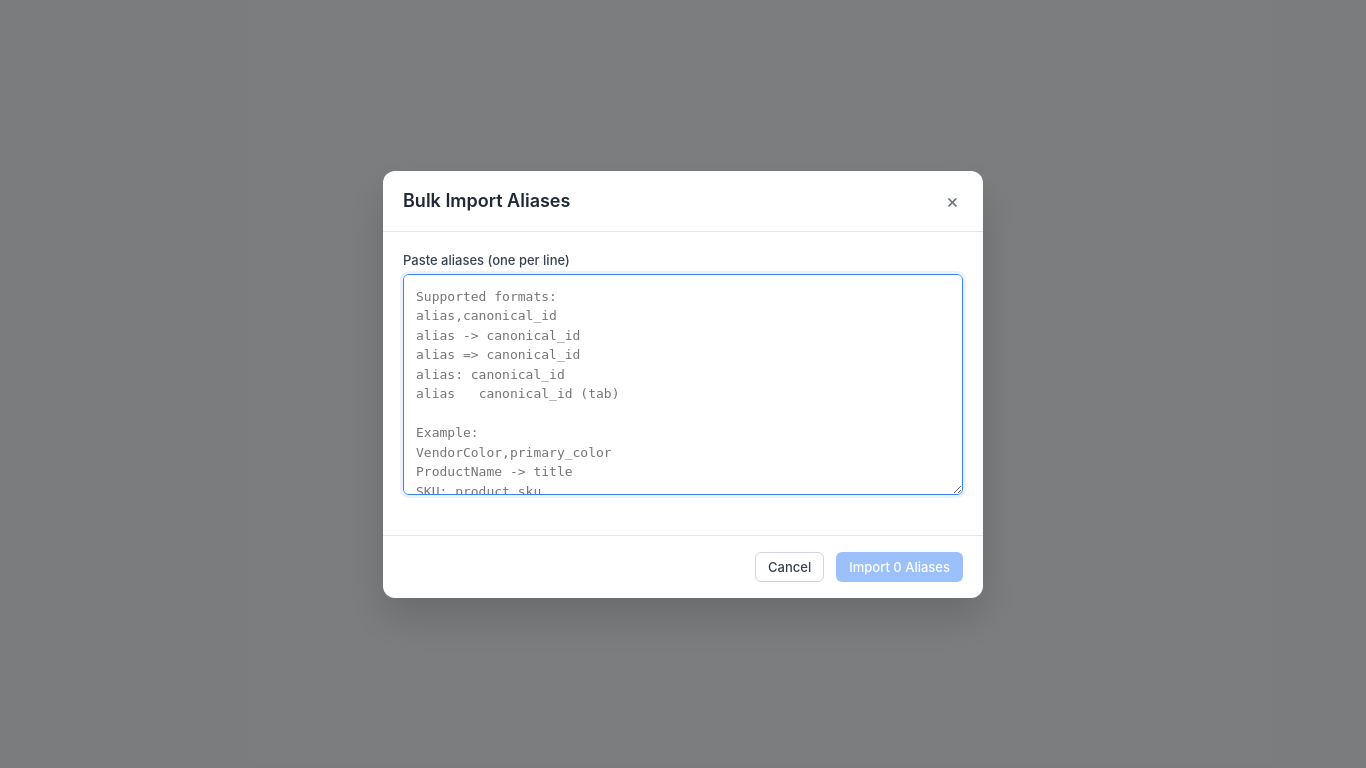
Test: BulkAliasImportModal › should detect invalid canonical IDs
Type "NewAlias,nonexistent_attr" into the text box with placeholder "Supported formats" at [683, 384], box [403, 274, 963, 494]
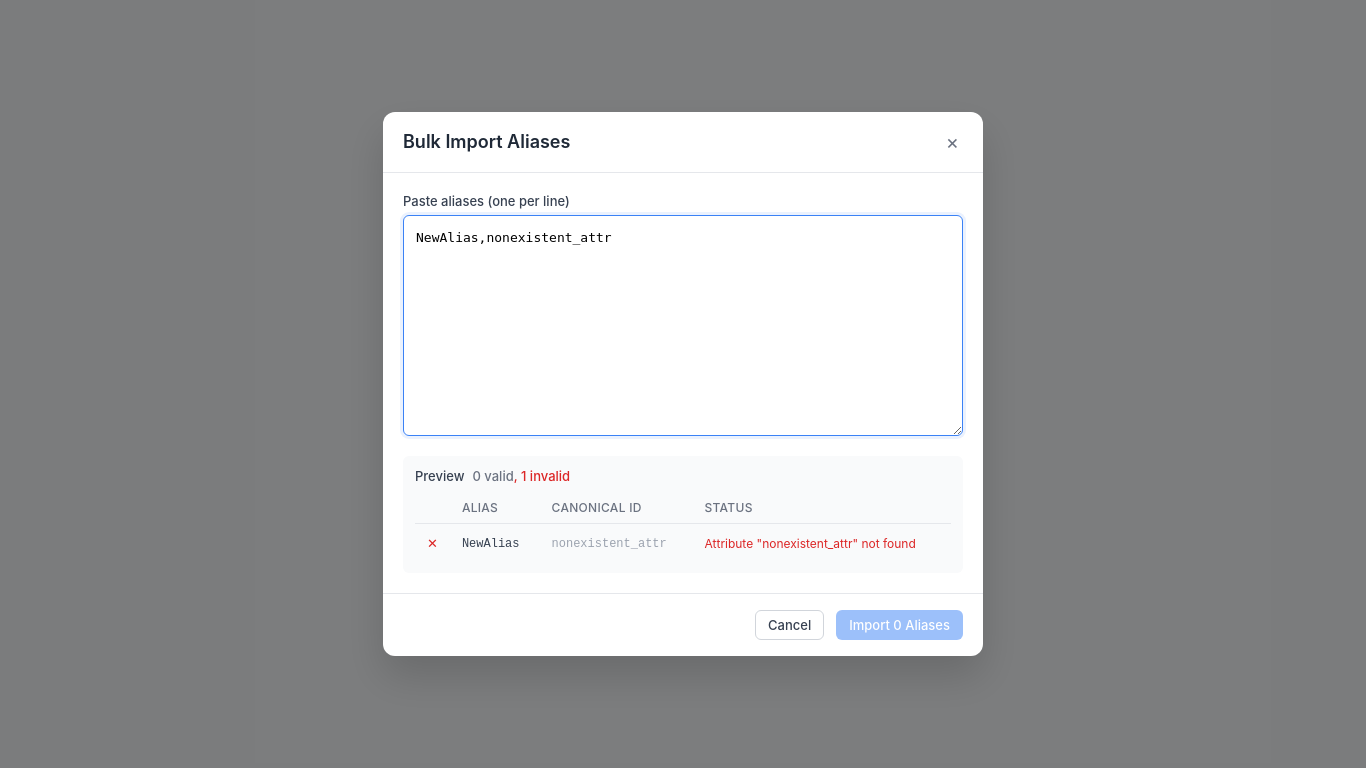
Expected: the text "Attribute \"nonexistent_attr\" not found" is shown, [704, 536, 916, 550]
